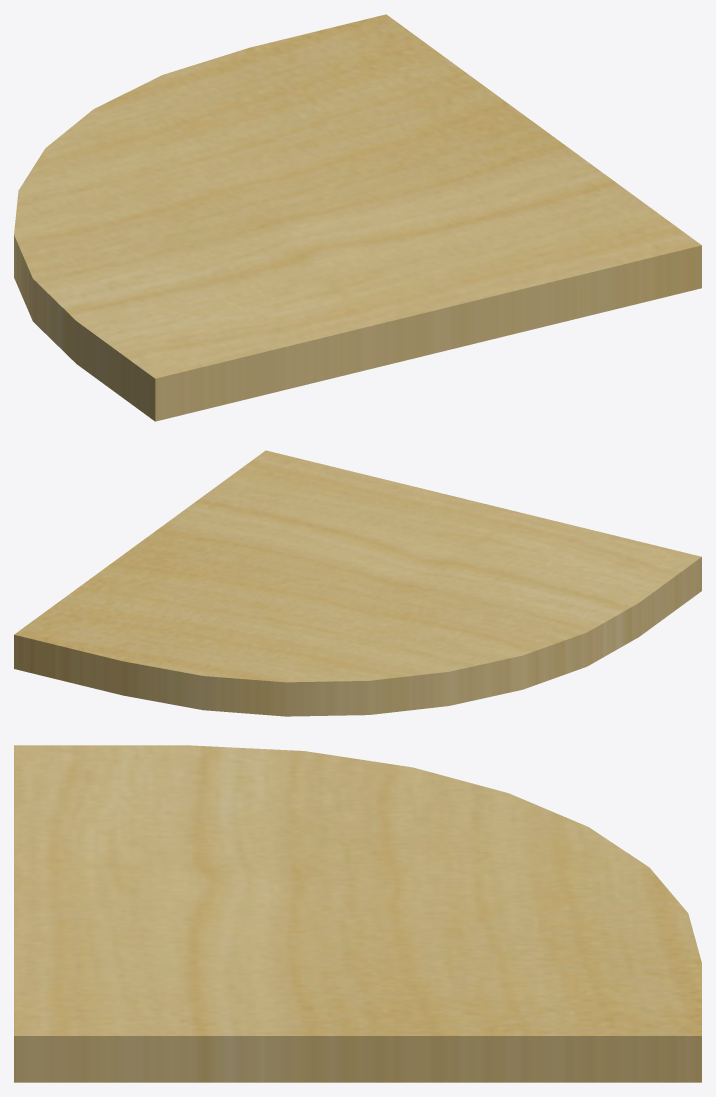
Rendered from sweethome3d-lucapresidente-corner-shelf-maple-30.glb.
The picture shows the model from 3 angles, top to bottom: view 1: azimuth 30°, elevation 25°; view 2: azimuth 150°, elevation 25°; view 3: azimuth 270°, elevation 25°; orthographic projection. The views are drawn at different scales.
Parts seen in each view (by area): view 1: Rectangle15_1; view 2: Rectangle15_1; view 3: Rectangle15_1.
Part boxes in pixels (x1=…): Rectangle15_1: x1=14, y1=14, x2=701, y2=421; Rectangle15_1: x1=14, y1=450, x2=701, y2=716; Rectangle15_1: x1=14, y1=745, x2=701, y2=1082.
Bounding box in the file's own units: 40 × 3 × 40.
1 material, 1 textured.
